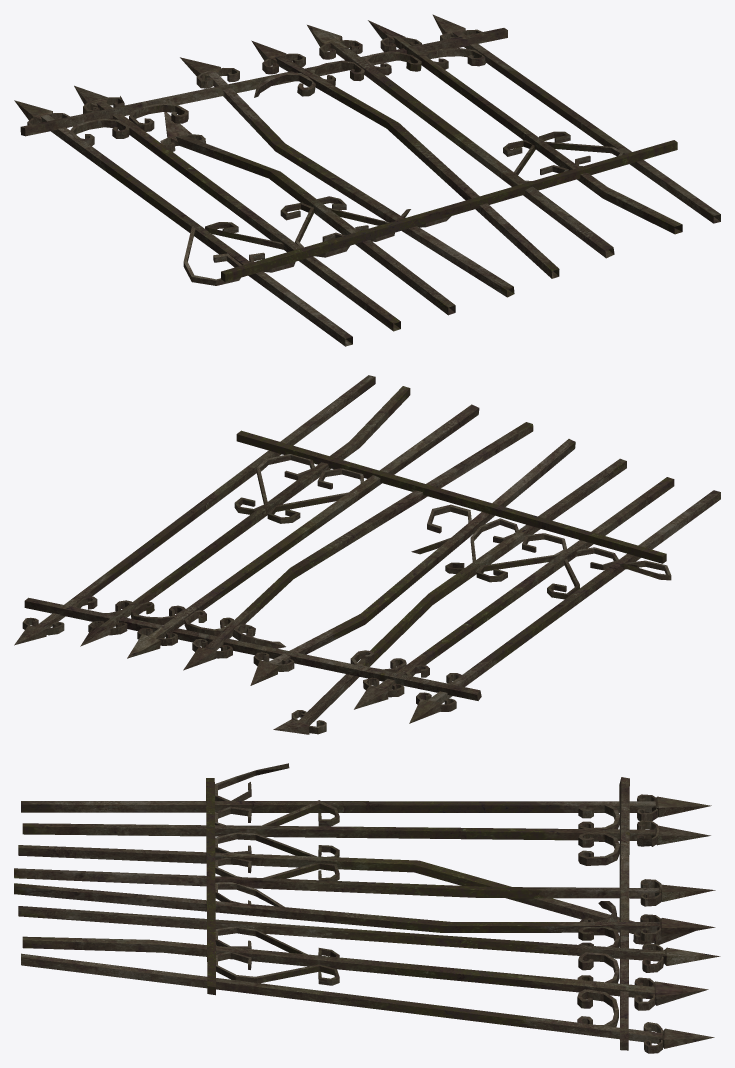
Rendered from TI_Fence_G_02.fbx.
The picture shows the model from 3 angles, top to bottom: view 1: azimuth 30°, elevation 25°; view 2: azimuth 150°, elevation 25°; view 3: azimuth 270°, elevation 25°; orthographic projection. The views are drawn at different scales.
Visible parts, largest first — view 1: TI_Fence_G_02; view 2: TI_Fence_G_02; view 3: TI_Fence_G_02.
Boxes of the visible parts, x1,y1,x2,y2 form: TI_Fence_G_02: [14, 14, 720, 346]; TI_Fence_G_02: [14, 375, 720, 734]; TI_Fence_G_02: [14, 763, 720, 1053].
Bounding box in the file's own units: 3.27 × 0.6141 × 3.83.
